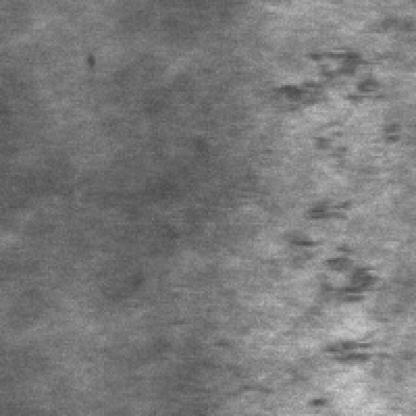rolled-in_scale: (268, 50, 387, 343), (241, 349, 401, 416)
